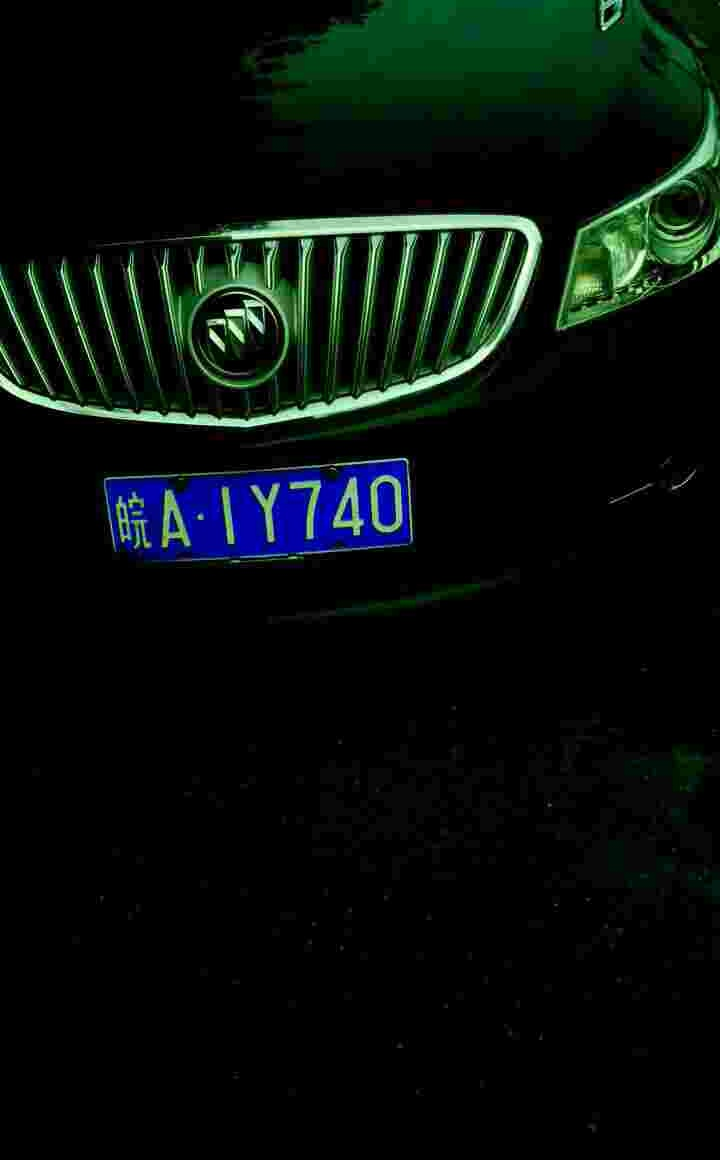license_plate: (95, 464, 420, 560)
